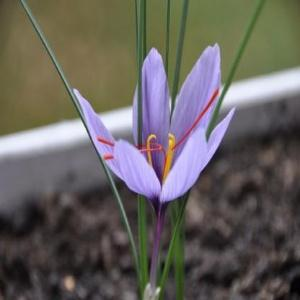Saffron: (75, 44, 237, 230)
